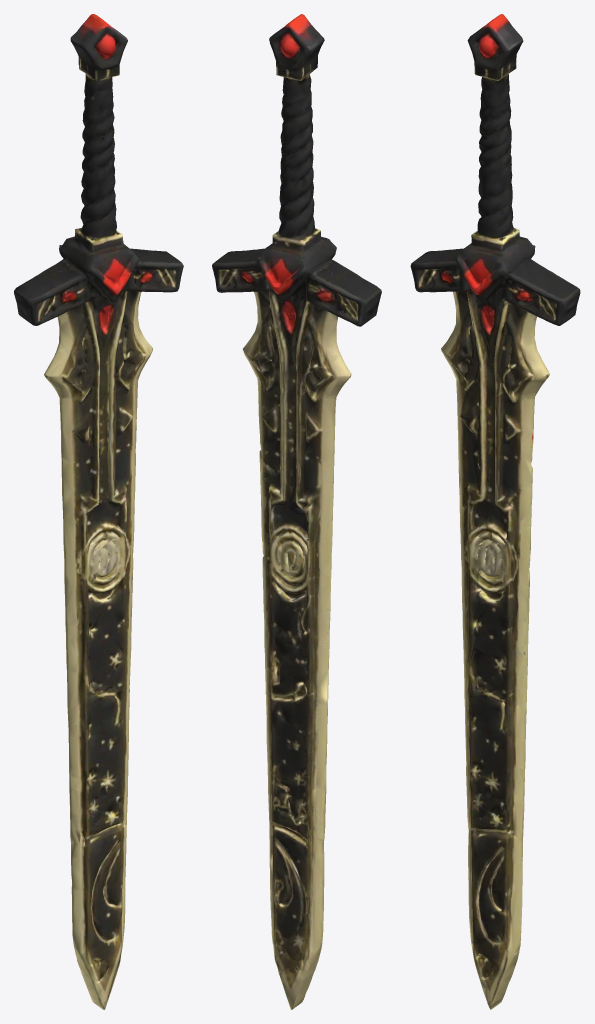
The model's file is my_celestial.glb.
The picture shows the model from 3 angles, left to right: view 1: azimuth 30°, elevation 25°; view 2: azimuth 150°, elevation 25°; view 3: azimuth 330°, elevation 25°; orthographic projection.
Size of the model in its own units: 0.3121 by 1.9 by 0.1349.
Materials: 1 (1 with a texture image).
